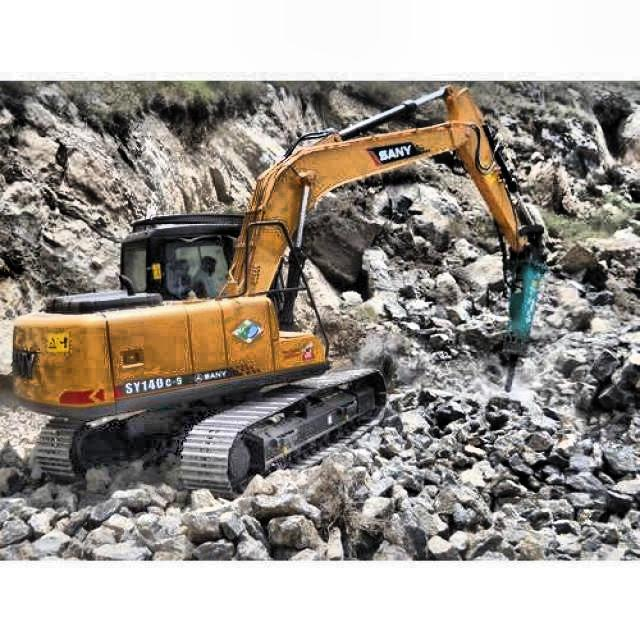excavator: (5, 80, 550, 502)
